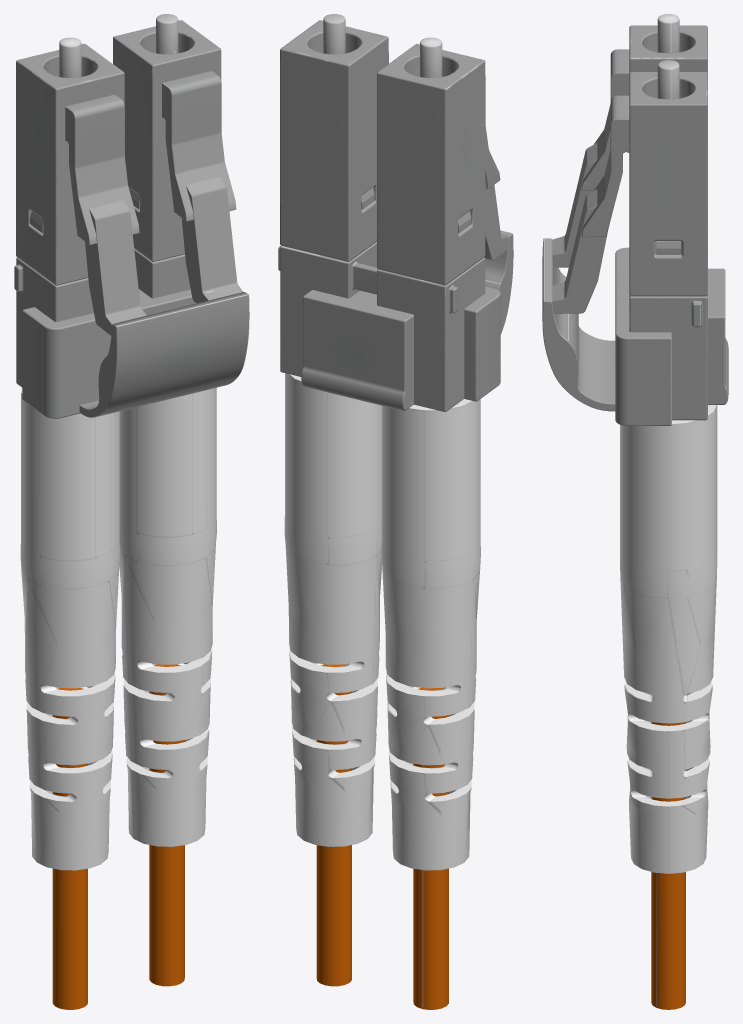
File: lc_plug_visual.glb
The picture shows the model from 3 angles, left to right: view 1: azimuth 30°, elevation 25°; view 2: azimuth 150°, elevation 25°; view 3: azimuth 270°, elevation 25°; orthographic projection. The views are drawn at different scales.
Parts seen in each view (by area): view 1: 1AF02-003-MA2.002, Cube.020, Cube.010, Cube.018, Cube.012, FCA-FCFC-DPS1Z-ma1_AQUA.002, Cube.016, Cube.014, Cylinder.002; view 2: 1AF02-003-MA2.002, Cube.020, Cube.016, Cube.014, FCA-FCFC-DPS1Z-ma1_AQUA.002, Cylinder.002, Cube.018, Cube.012, Cube.010; view 3: 1AF02-003-MA2.002, Cube.020, Cube.016, Cube.018, Cube.014, FCA-FCFC-DPS1Z-ma1_AQUA.002, Cube.010, Cube.012, Cylinder.002.
Part boxes in pixels (left/top/right/bottom): 1AF02-003-MA2.002: left=20, top=387, right=216, bottom=870; Cube.020: left=16, top=20, right=221, bottom=285; Cube.010: left=65, top=71, right=236, bottom=245; Cube.018: left=79, top=292, right=249, bottom=417; Cube.012: left=85, top=176, right=243, bottom=335; FCA-FCFC-DPS1Z-ma1_AQUA.002: left=52, top=664, right=184, bottom=1009; Cube.016: left=22, top=289, right=195, bottom=418; Cube.014: left=14, top=249, right=190, bottom=387; Cylinder.002: left=59, top=14, right=178, bottom=77; 1AF02-003-MA2.002: left=284, top=373, right=480, bottom=870; Cube.020: left=280, top=20, right=485, bottom=285; Cube.016: left=301, top=286, right=500, bottom=410; Cube.014: left=278, top=242, right=485, bottom=411; FCA-FCFC-DPS1Z-ma1_AQUA.002: left=316, top=664, right=448, bottom=1009; Cylinder.002: left=323, top=14, right=442, bottom=77; Cube.018: left=485, top=230, right=513, bottom=334; Cube.012: left=484, top=185, right=508, bottom=260; Cube.010: left=388, top=52, right=500, bottom=189; 1AF02-003-MA2.002: left=620, top=405, right=717, bottom=873; Cube.020: left=629, top=25, right=707, bottom=296; Cube.016: left=615, top=247, right=728, bottom=425; Cube.018: left=542, top=238, right=615, bottom=411; Cube.014: left=629, top=295, right=707, bottom=420; FCA-FCFC-DPS1Z-ma1_AQUA.002: left=651, top=722, right=685, bottom=1009; Cube.010: left=581, top=49, right=629, bottom=237; Cube.012: left=552, top=143, right=607, bottom=313; Cylinder.002: left=657, top=14, right=679, bottom=99.
Bounding box in the file's own units: 0.0124 × 0.0593 × 0.0107.
1 material, 1 textured.
